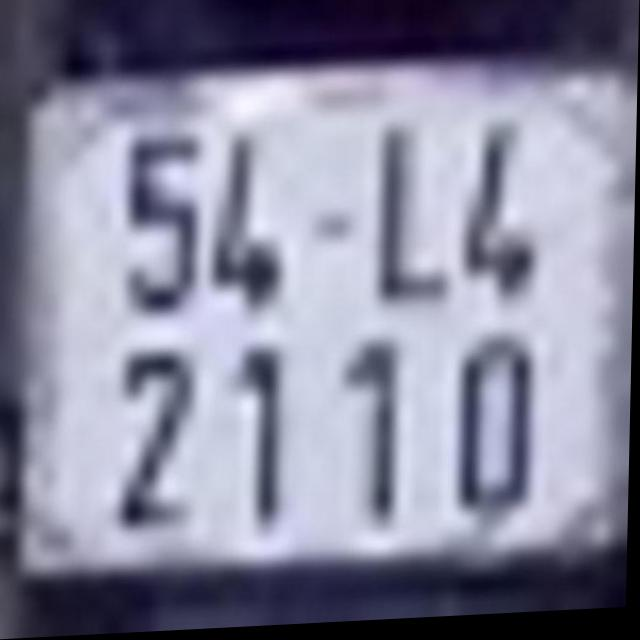0: (446, 331, 542, 526)
1: (231, 335, 294, 529), (360, 334, 411, 523)
2: (118, 340, 205, 533)
4: (205, 125, 291, 321), (460, 116, 543, 318)
5: (129, 124, 202, 320)
L: (368, 124, 460, 316)
